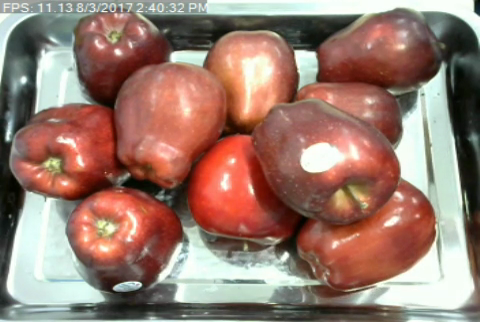Apple: (250, 96, 403, 229), (291, 174, 441, 295), (107, 60, 230, 189), (183, 132, 304, 247), (62, 186, 186, 296), (6, 100, 139, 202), (313, 5, 443, 96), (200, 26, 304, 134), (70, 6, 174, 106)
